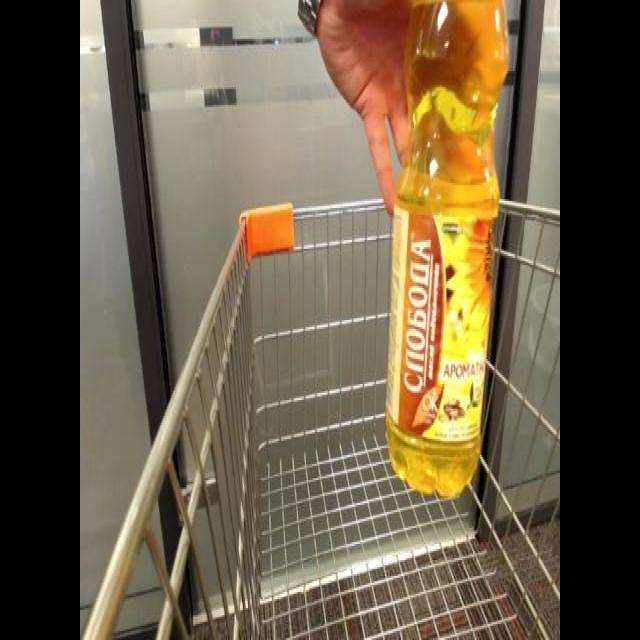Oil: (379, 4, 513, 506)
